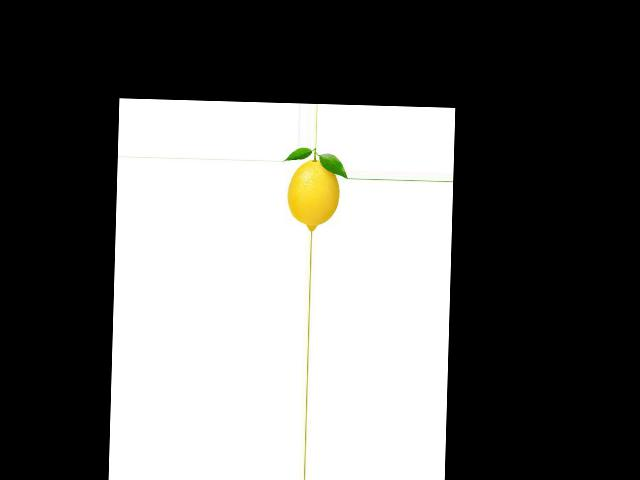lemon: (282, 153, 338, 232)
